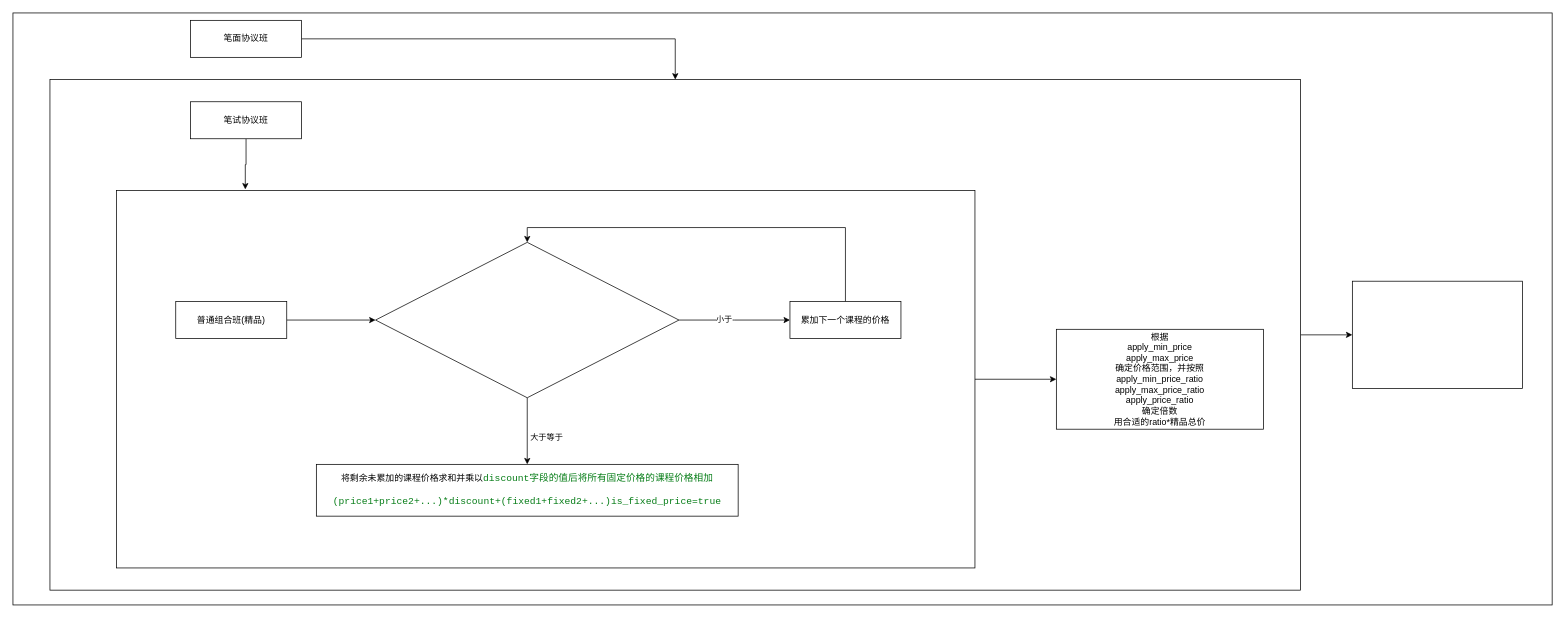
Image size: 1565x618. Some labels were removed from this diagram. Each missing label, with the centre of its shape:
"根据组合内价格降序排序并过滤固定价格 （ is_fixed_price=true ） 课程后取第一个值进行判断是否大于等于 accord_with_price" goes at pixel 527 320.
"面试总价+面试精品价格(单价*天数)" goes at pixel 1437 334.
